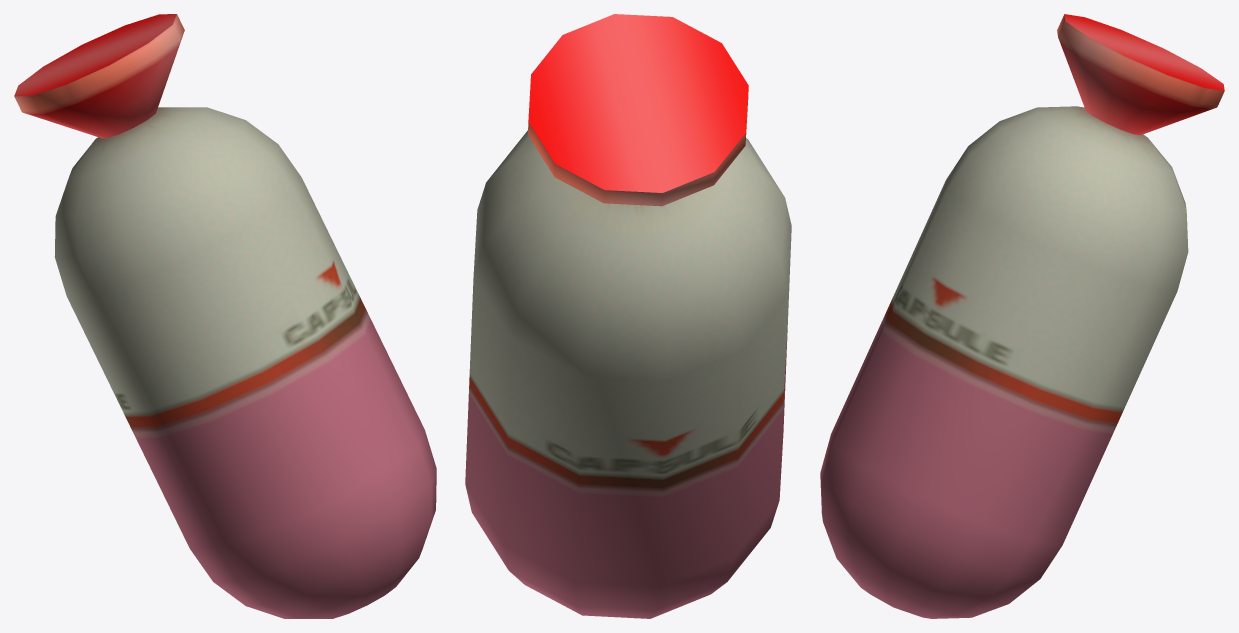
The model's file is DolCapsule.obj.
3 renders of one model, left to right at view 1: azimuth 30°, elevation 25°; view 2: azimuth 150°, elevation 25°; view 3: azimuth 270°, elevation 25°, orthographic. The views are drawn at different scales.
Visible parts, largest first — view 1: polygon0, polygon1; view 2: polygon0, polygon1; view 3: polygon0, polygon1.
Boxes of the visible parts, x1,y1,x2,y2 form: polygon0: (54,107,436,618); polygon1: (14,14,184,138); polygon0: (465,130,791,618); polygon1: (528,14,748,206); polygon0: (820,106,1188,618); polygon1: (1057,14,1224,135).
Bounding box in the file's own units: 5.81 × 10.11 × 6.87.
